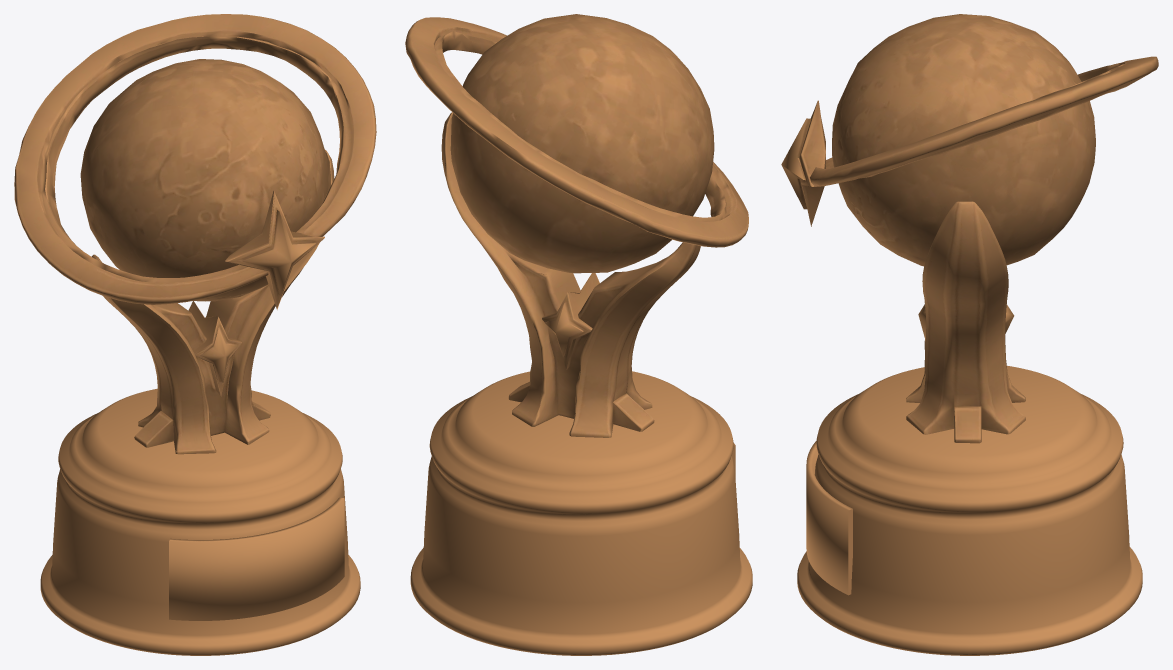
The model's file is bronz_honor.glb.
The picture shows the model from 3 angles, left to right: view 1: azimuth 30°, elevation 25°; view 2: azimuth 150°, elevation 25°; view 3: azimuth 270°, elevation 25°; orthographic projection. The views are drawn at different scales.
Parts seen in each view (by area): view 1: bronz_honor_AO_candidate; view 2: bronz_honor_AO_candidate; view 3: bronz_honor_AO_candidate.
Boxes of the visible parts, x1=… form: bronz_honor_AO_candidate: x1=14, y1=14, x2=376, y2=655; bronz_honor_AO_candidate: x1=405, y1=14, x2=752, y2=655; bronz_honor_AO_candidate: x1=781, y1=14, x2=1158, y2=655.
Bounding box in the file's own units: 0.6047 × 1 × 0.6094.
Materials: 2 (1 with a texture image).
